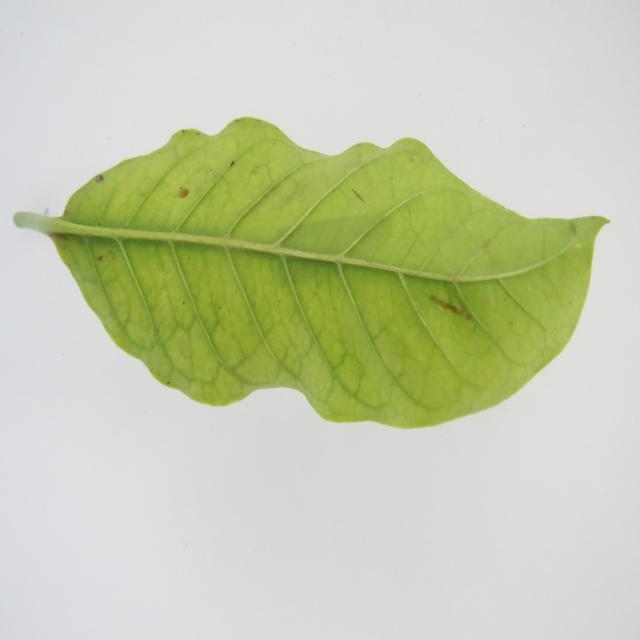DeficienciaNutricional-Calcio: (14, 118, 606, 428)
